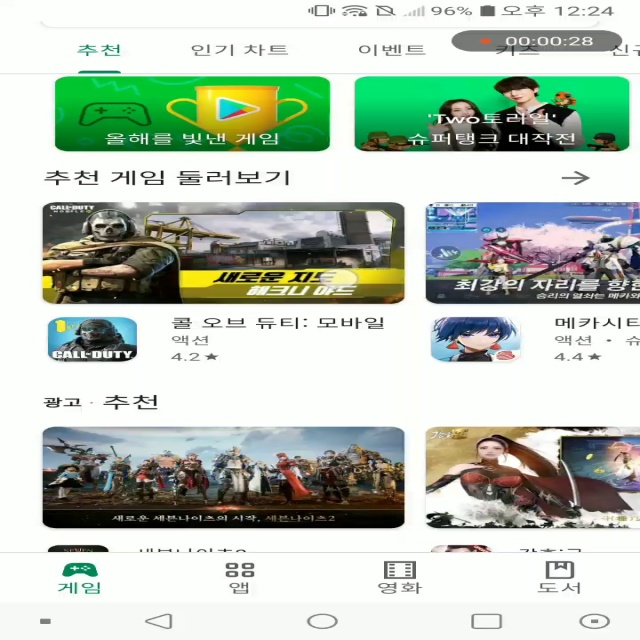Cursor: (318, 268, 362, 290)
